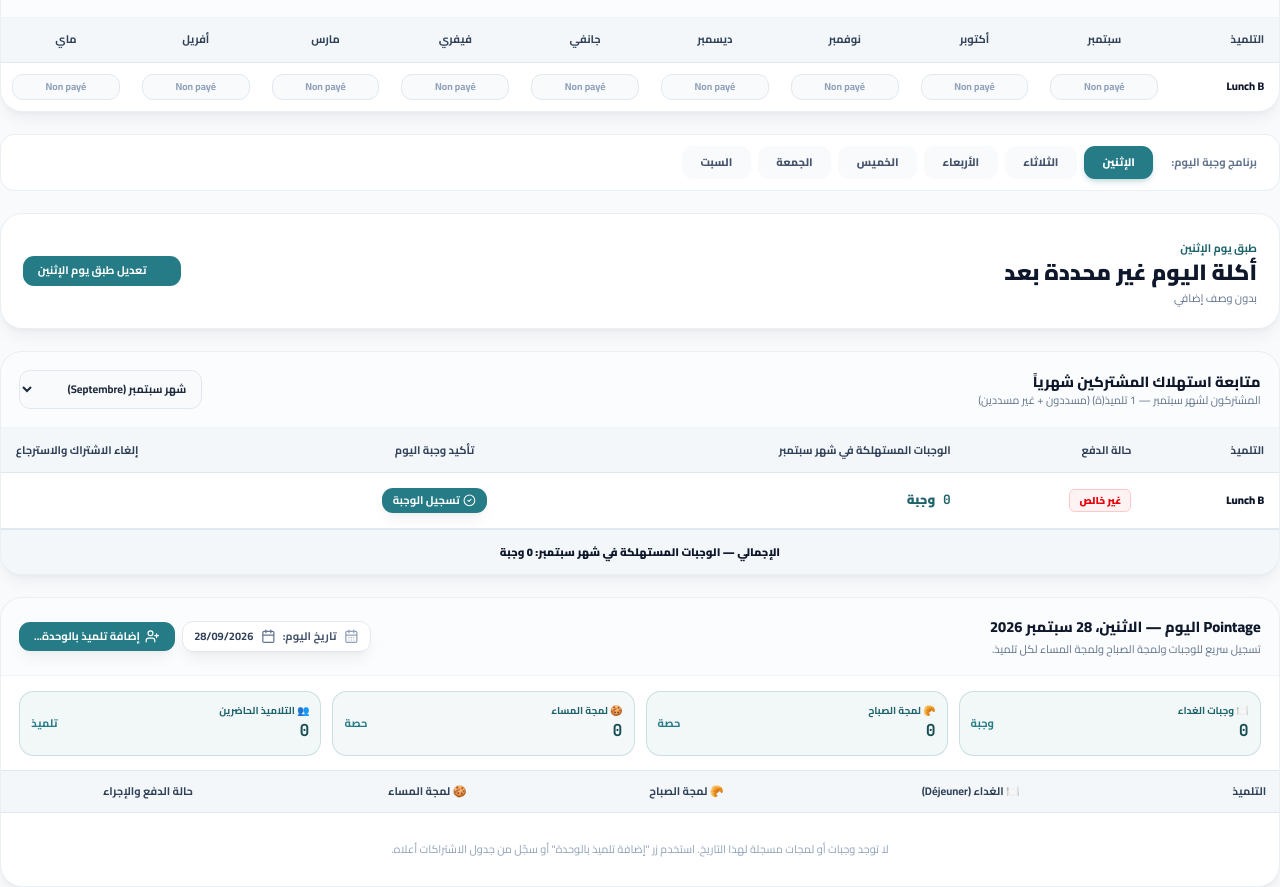
Test case: MealsModule — revision D remarks › remark M3: selecting a candidate enables exactly the services his subscription covers
This screenshot has width=1280, height=887.
(page scrolled)
Click the button "إضافة تلميذ بالوحدة...": click(97, 637) [19,622,175,651]
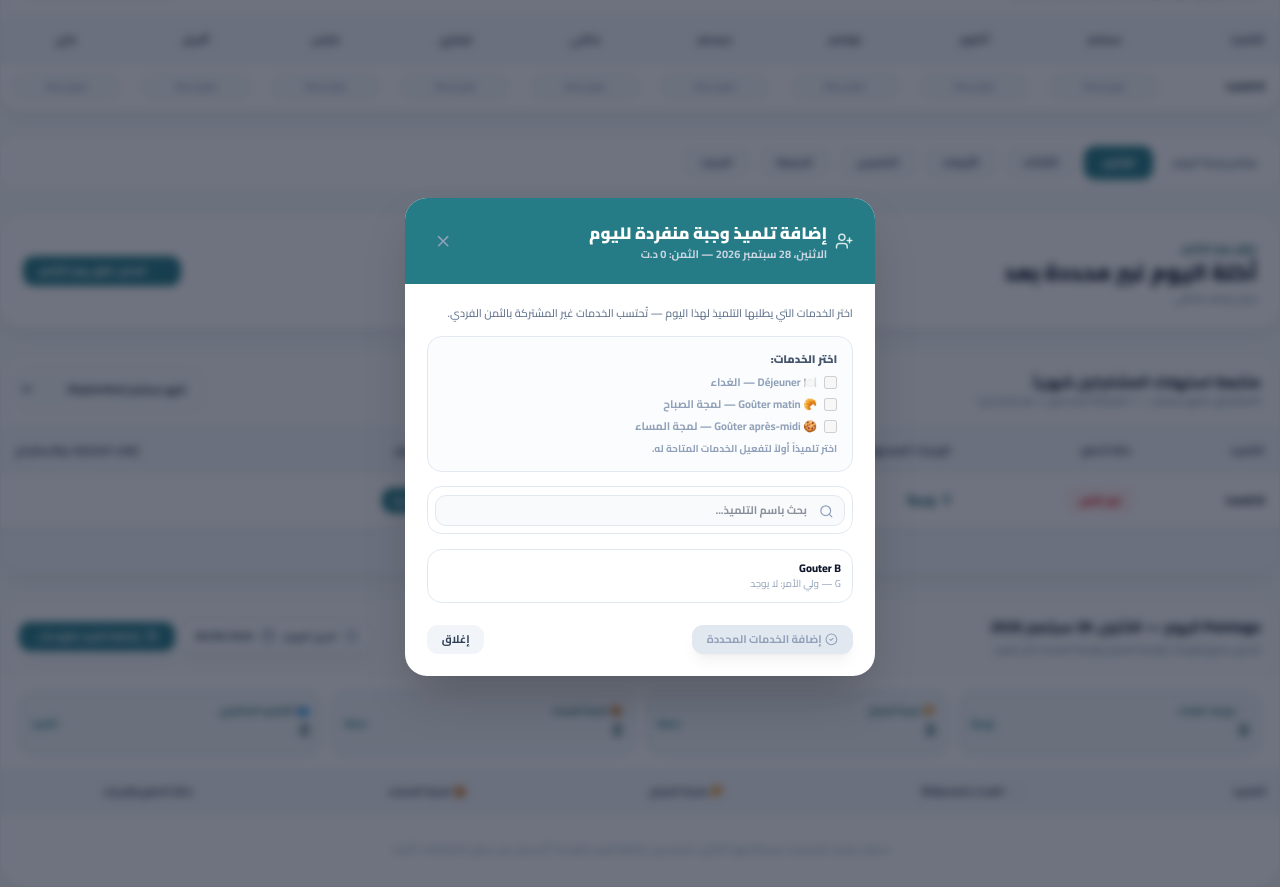
Click the element with test id "unit-candidate-st_gouter": click(796, 575) [750,558,841,593]
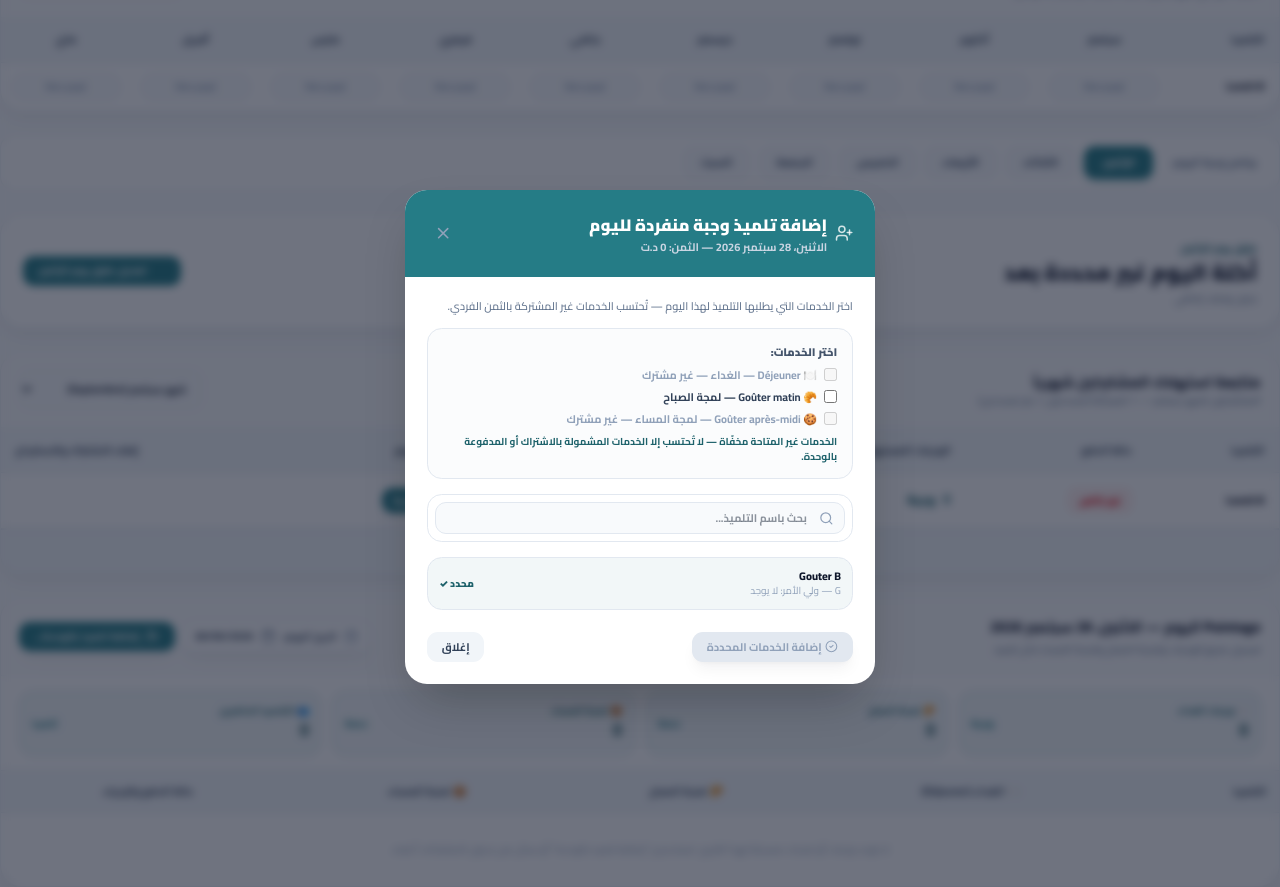
Expected: the checkbox with test id "unit-service-toggle-lunch" is disabled, [824,368,837,381]
Expected: the checkbox with test id "unit-service-toggle-gouter_apres_midi" is disabled, [824,412,837,425]
Expected: the checkbox with test id "unit-service-toggle-gouter_matin" is enabled, [824,390,837,403]
